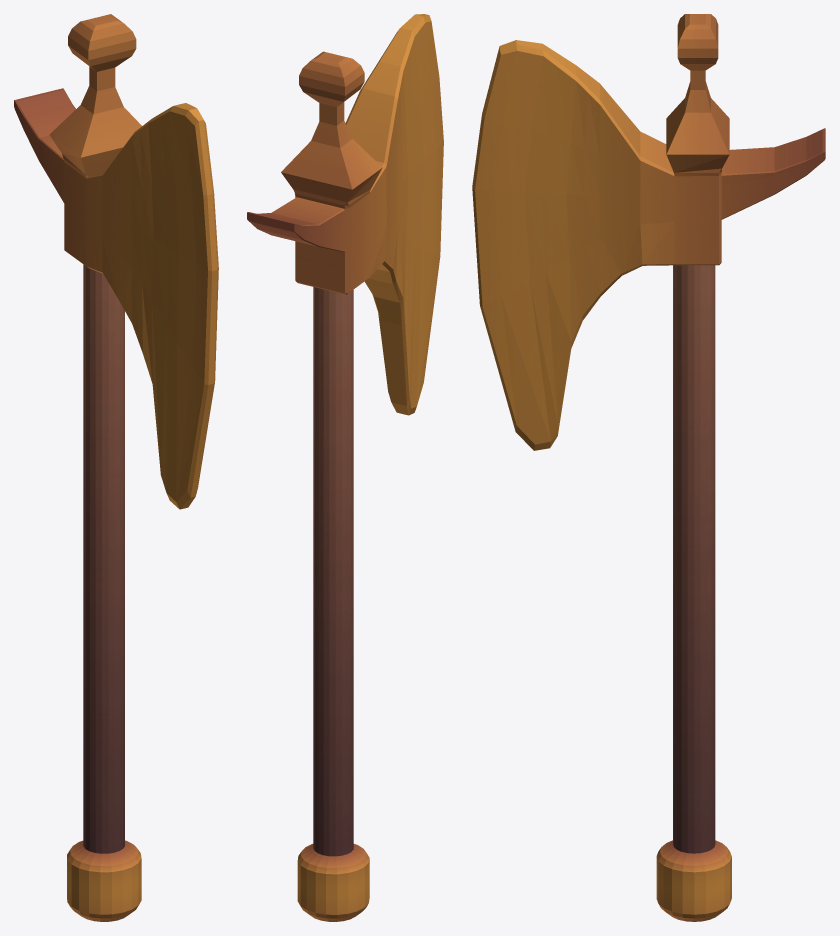
Rendered from halberd.fbx.
The picture shows the model from 3 angles, left to right: view 1: azimuth 30°, elevation 25°; view 2: azimuth 150°, elevation 25°; view 3: azimuth 270°, elevation 25°; orthographic projection. The views are drawn at different scales.
Visible parts, largest first — view 1: halberd; view 2: halberd; view 3: halberd.
Part boxes in pixels (<box>): halberd: <box>14,14,218,921</box>; halberd: <box>247,14,443,921</box>; halberd: <box>472,14,825,921</box>.
Bounding box in the file's own units: 0.1068 × 1.22 × 0.4378.
